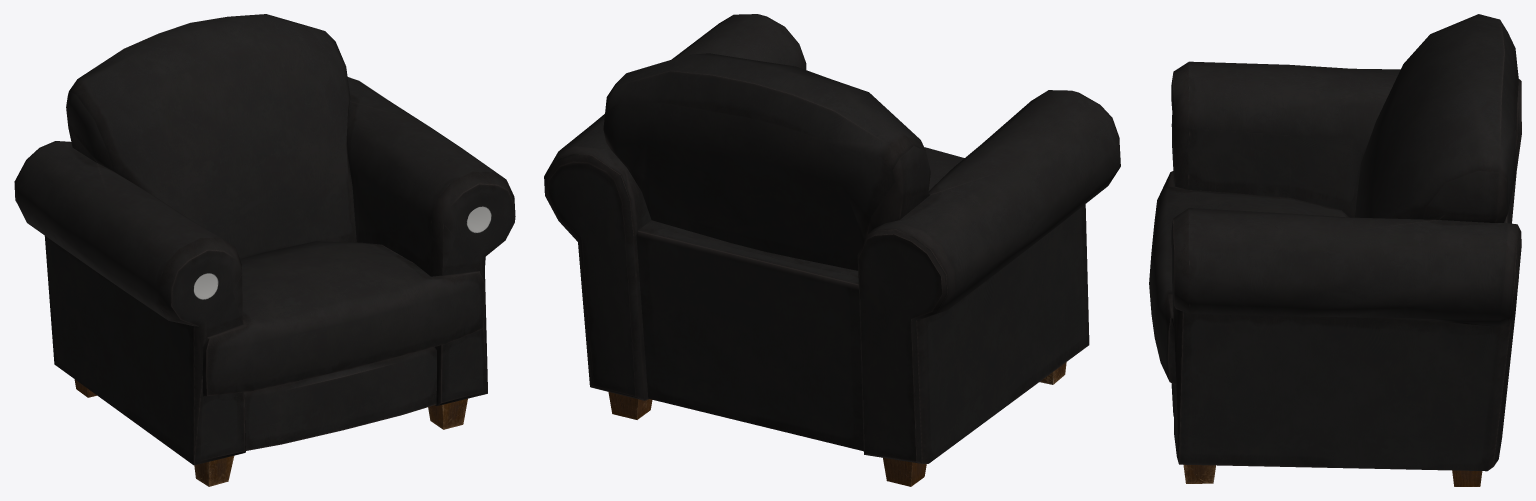
The model's file is Armchair.fbx.
3 views of the same model, side by side, from view 1: azimuth 30°, elevation 25°; view 2: azimuth 150°, elevation 25°; view 3: azimuth 270°, elevation 25° (orthographic). The views are drawn at different scales.
Visible parts, largest first — view 1: armchair; view 2: armchair; view 3: armchair.
Boxes of the visible parts, x1,y1,x2,y2 form: armchair: (14,14,515,486); armchair: (544,14,1120,486); armchair: (1149,14,1521,486).
Bounding box in the file's own units: 110 × 97.77 × 90.03.
Materials: 1 (1 with a texture image).
